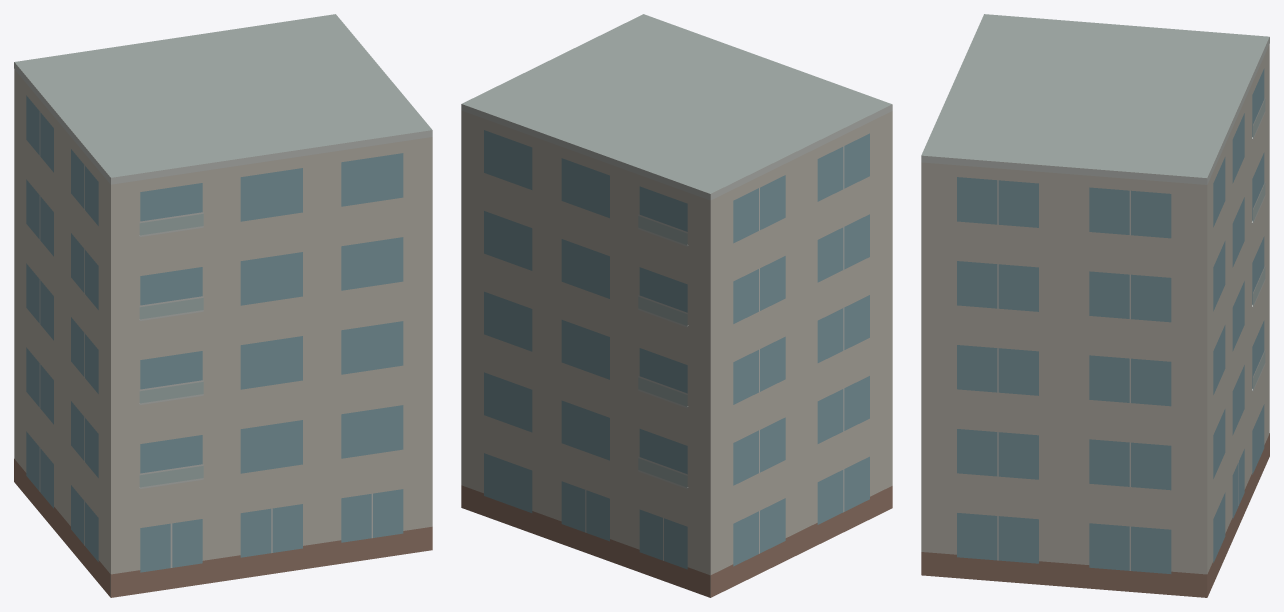
Rendered from survey-upis-32536641.glb.
3 renders of one model, left to right at view 1: azimuth 30°, elevation 25°; view 2: azimuth 150°, elevation 25°; view 3: azimuth 270°, elevation 25°, orthographic. The views are drawn at different scales.
Visible parts, largest first — view 1: survey-upis-32536641.tmp; view 2: survey-upis-32536641.tmp; view 3: survey-upis-32536641.tmp.
Part boxes in pixels (bbox=[...]): survey-upis-32536641.tmp: bbox=[14, 14, 432, 597]; survey-upis-32536641.tmp: bbox=[461, 14, 892, 597]; survey-upis-32536641.tmp: bbox=[921, 14, 1269, 597].
Bounding box in the file's own units: 12.59 × 15 × 11.3.
